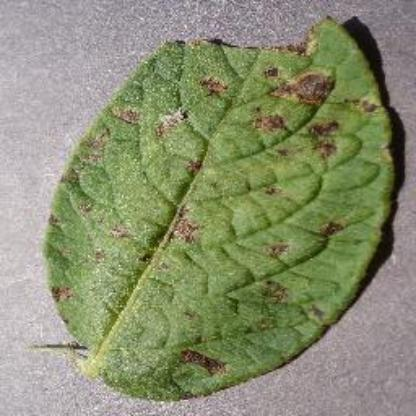Early-Blight: (42, 7, 412, 405)
